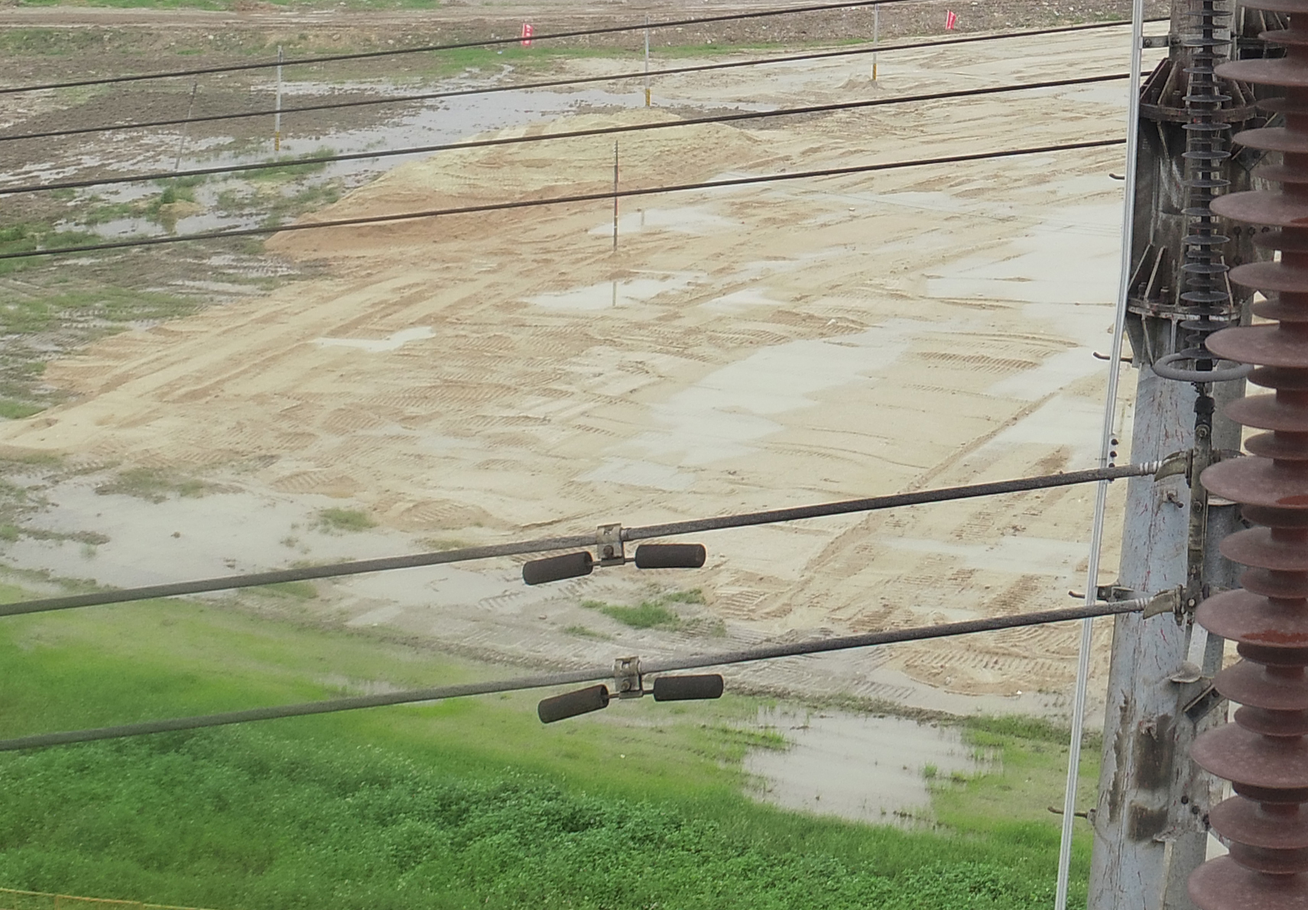damper: (532, 653, 725, 725), (518, 521, 708, 591)
